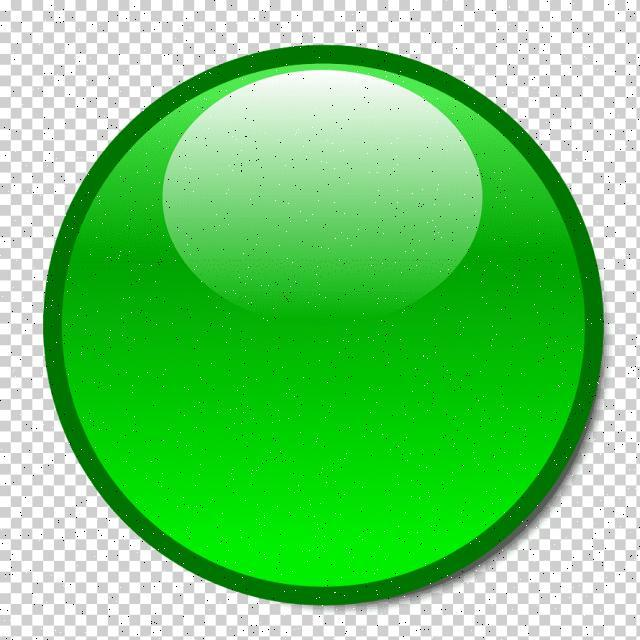Circle: (41, 44, 607, 609), (43, 45, 606, 608)
